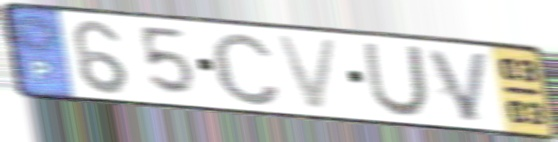5: (133, 25, 200, 100)
6: (70, 16, 133, 97)
C: (206, 29, 285, 108)
U: (360, 41, 433, 120)
V: (271, 32, 344, 113), (423, 46, 493, 124)
